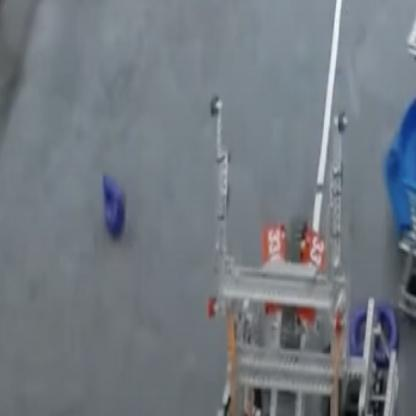ring: (100, 170, 126, 238), (371, 302, 398, 363), (350, 304, 377, 353)
